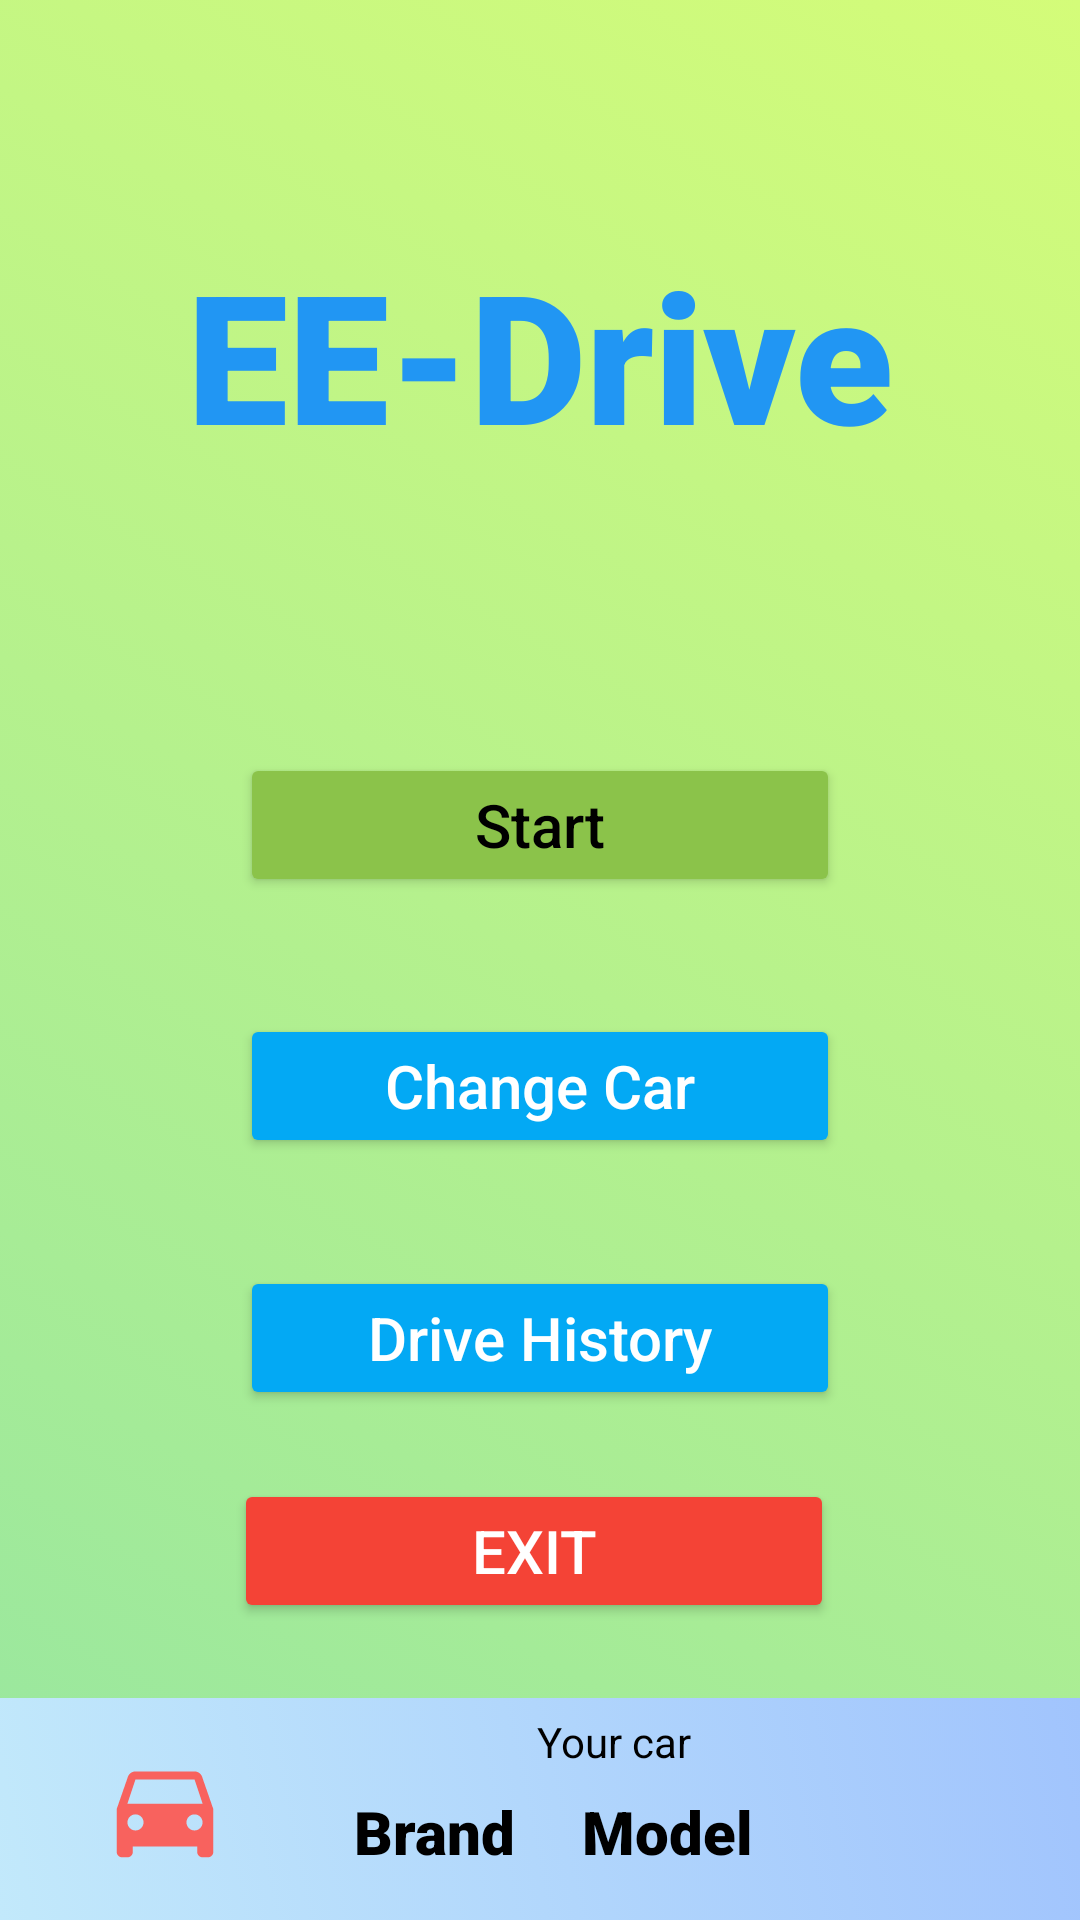

Where icons sit on this 1080px x 1920px app screen, as bbox=[x1, y1, x2, y2]:
car: bbox=[116, 1771, 214, 1858]
